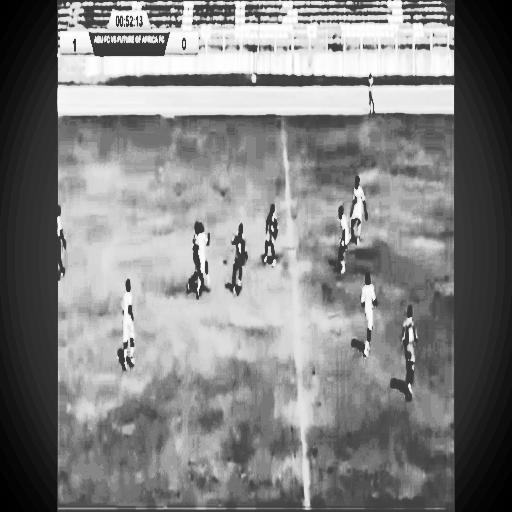ball: (251, 70, 257, 88)
referee: (57, 186, 70, 299)
team1: (113, 266, 140, 384), (359, 266, 380, 360), (350, 169, 370, 256), (332, 199, 353, 277), (196, 222, 214, 300)
team2: (399, 298, 423, 410), (258, 196, 282, 274), (228, 220, 250, 298), (188, 212, 200, 290)
